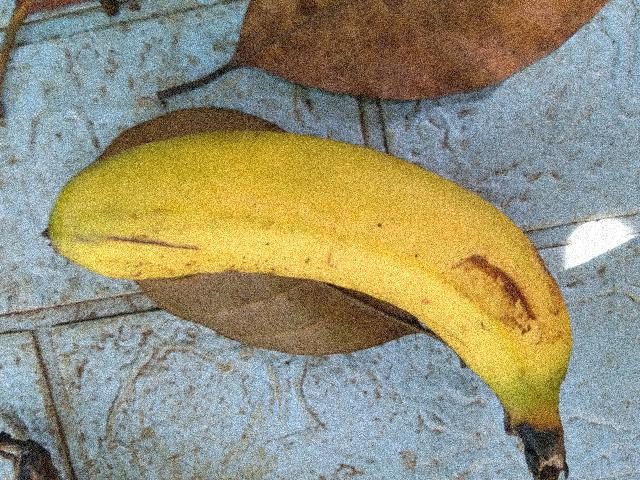ripe: (58, 110, 596, 467)
